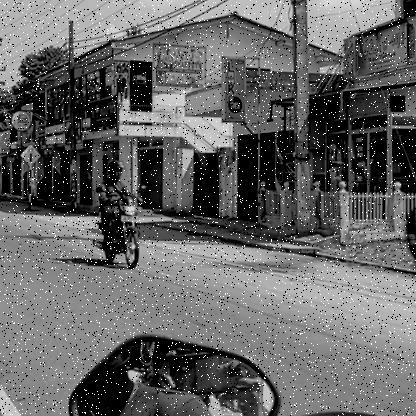motorcycle: (90, 196, 148, 272)
